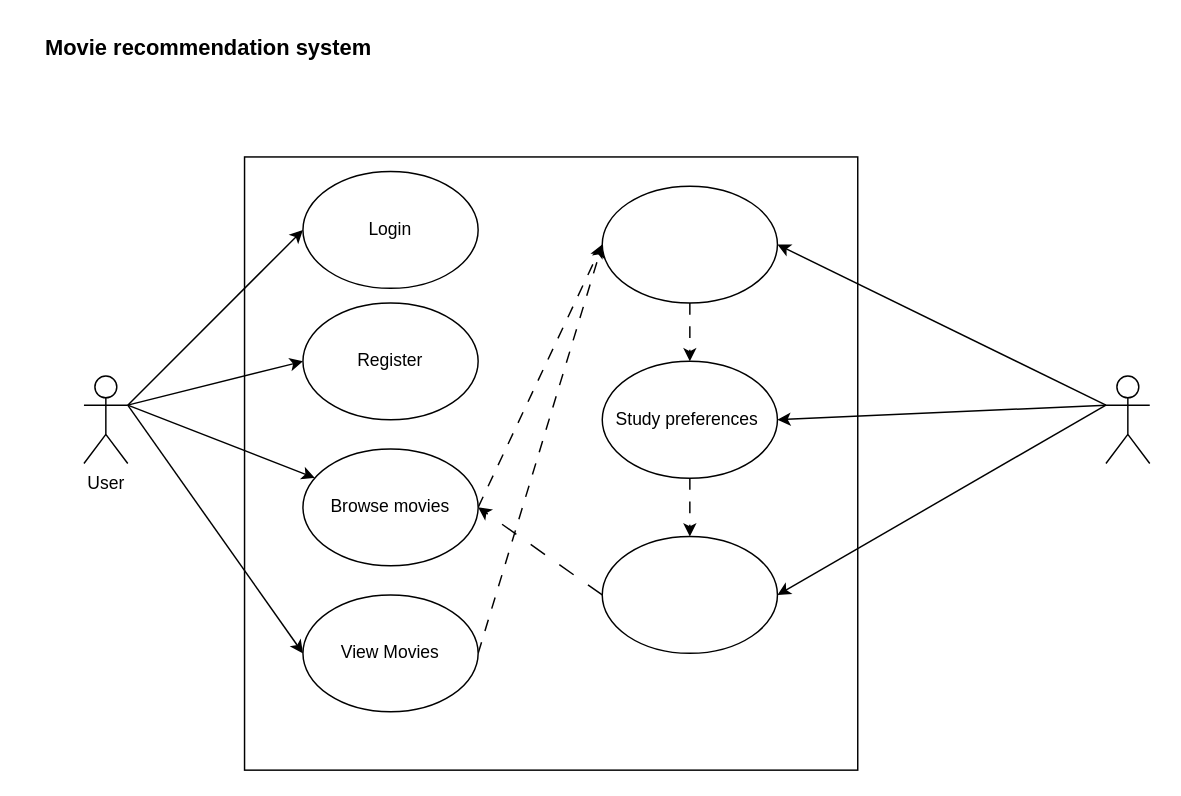
This 1181x796 diagram has some shape labels left out. Each missing label, with the centre of its shape:
Generate recommendations: (689,594)
Record user preferences: (689,244)
System: (1127,419)
